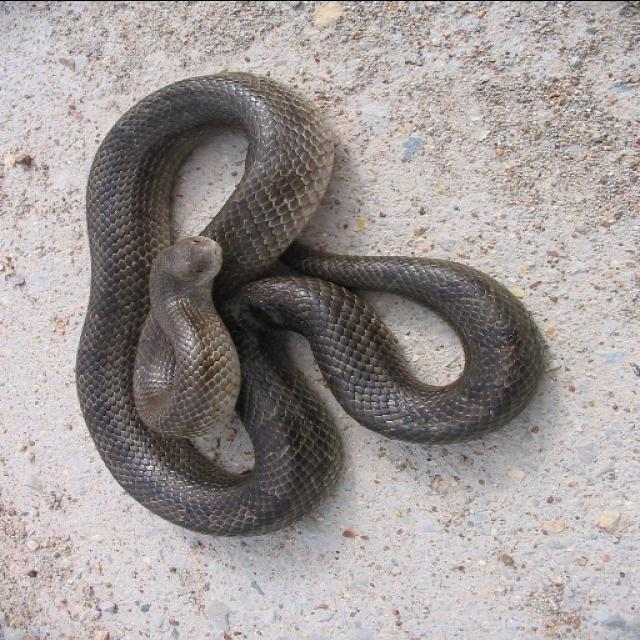snake: (68, 63, 556, 547)
